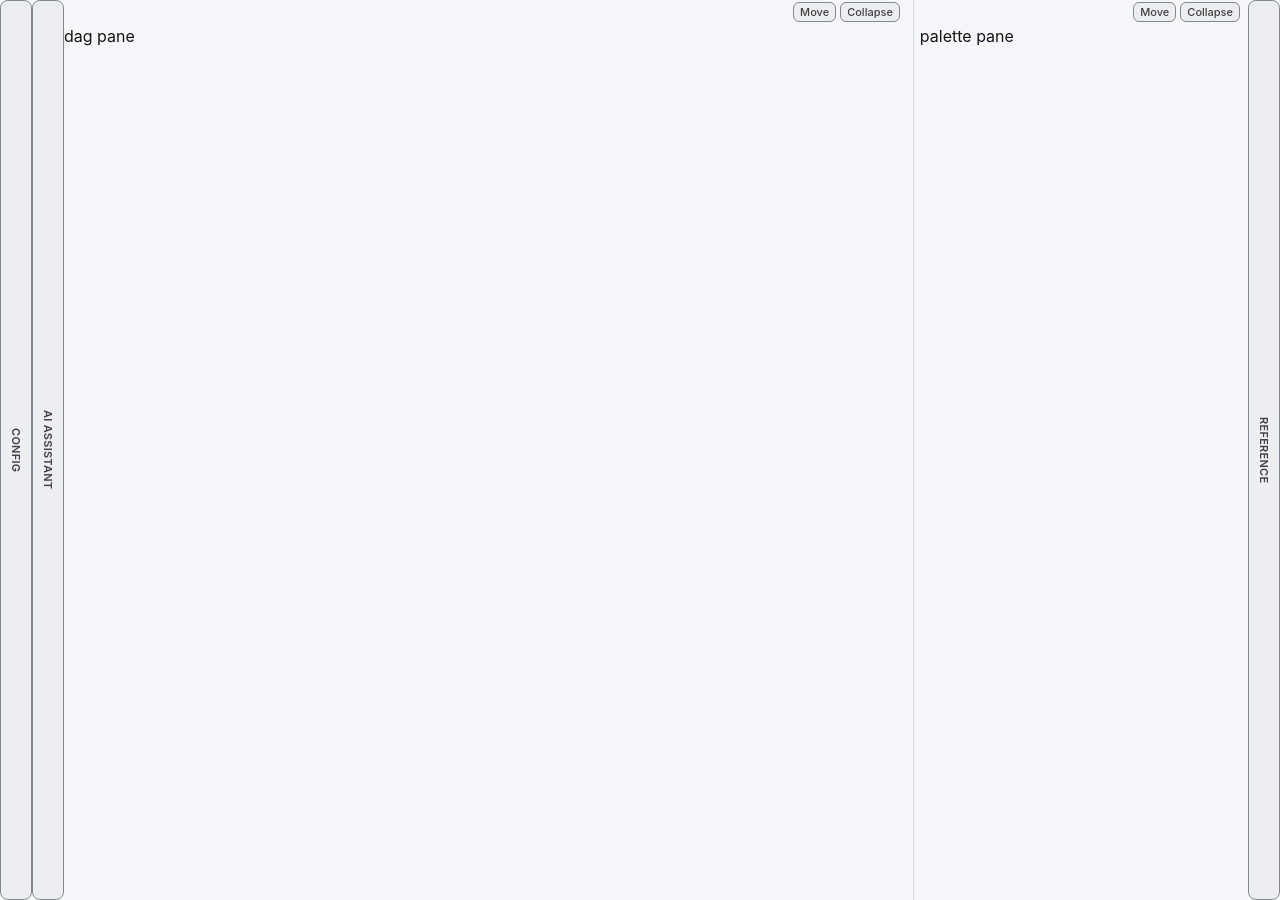
Scenario: LayoutRoot › shows a collapsed strip with a working expand button for a pane collapsed by preset default
Expected: the text "dag pane" is shown, [64, 26, 135, 46]
Click the button with aria-label "expand config panel": click(16, 450) [0, 0, 32, 899]
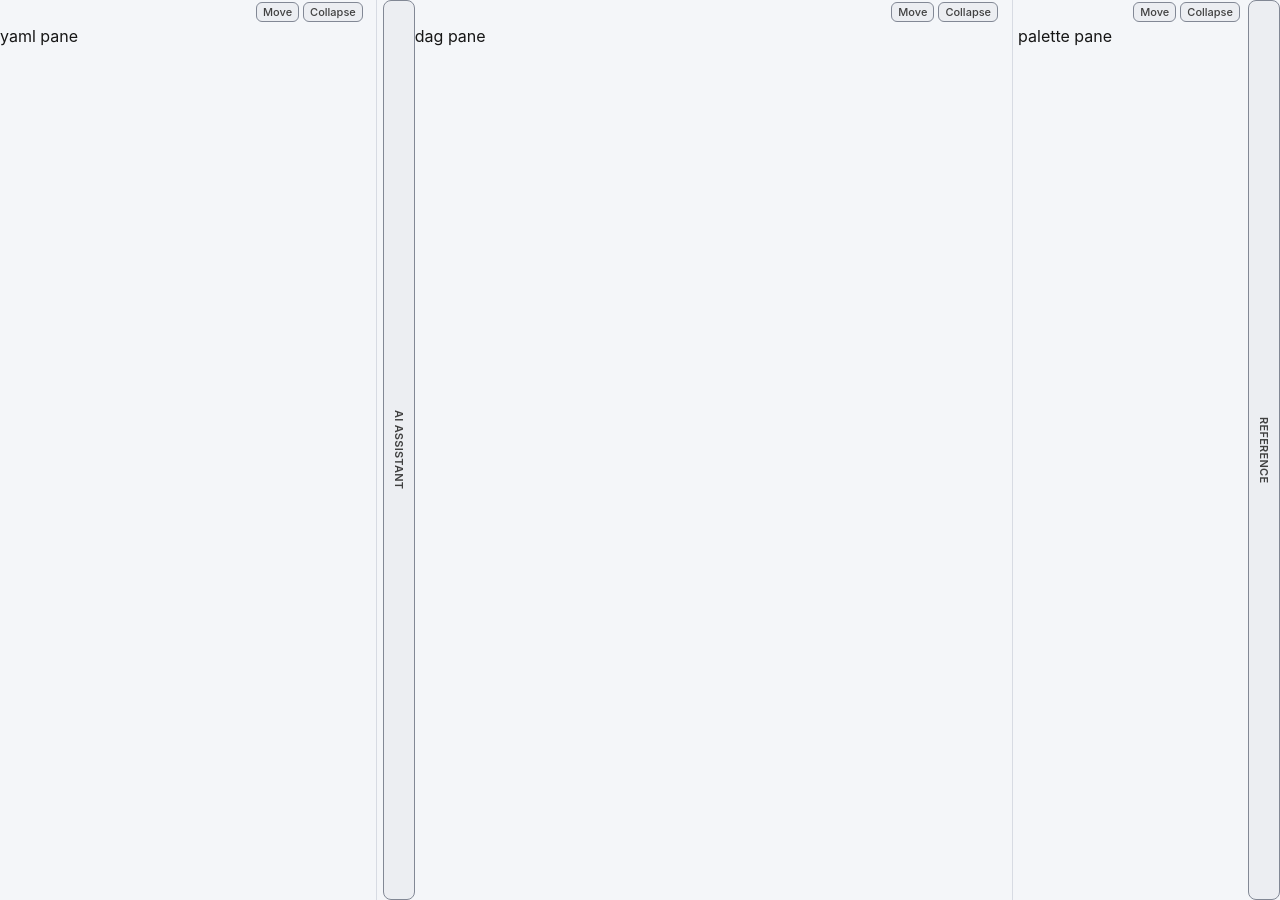
Result: the text "yaml pane" is shown at [0, 26, 78, 46]
